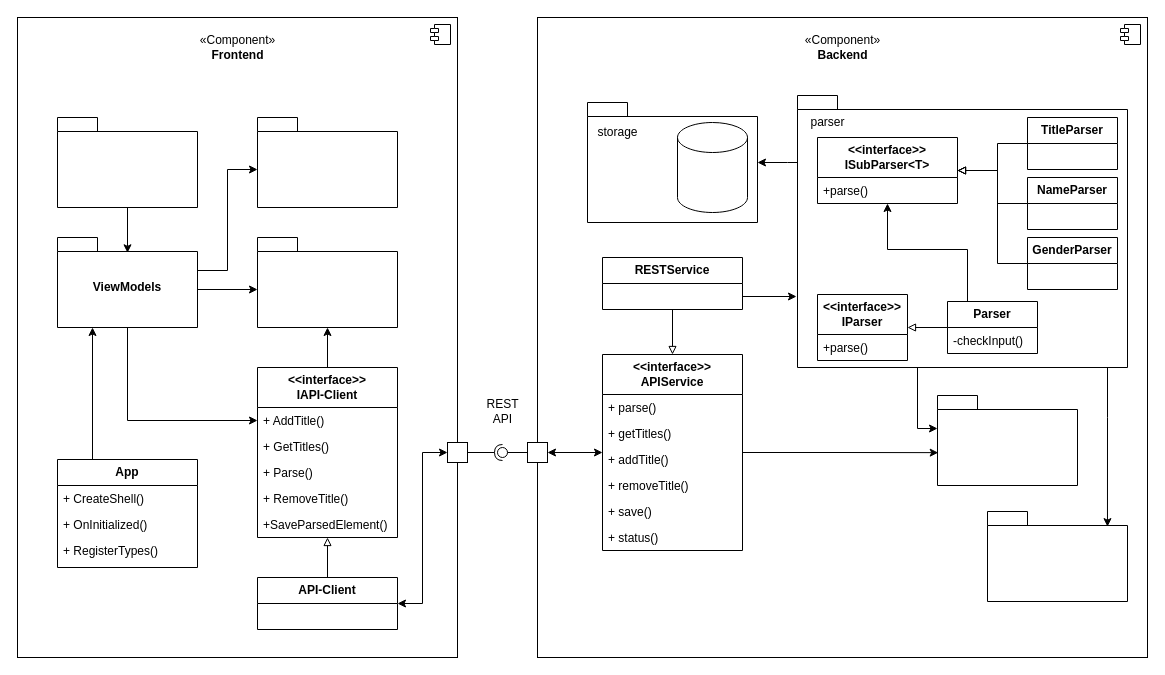
The diagram is 1165 pixels wide and 675 high, and some of its shapes have lost their labels. The shapes that lost their labels are listed below. From the top down, each one's centre as x and y in pixels, then its label:
At (x=127, y=162): "Views".
At (x=327, y=162): "Services".
At (x=712, y=167): "In Memory Speicher".
At (x=327, y=282): "DTOs".
At (x=1007, y=440): "model".
At (x=1057, y=556): "exceptions".
